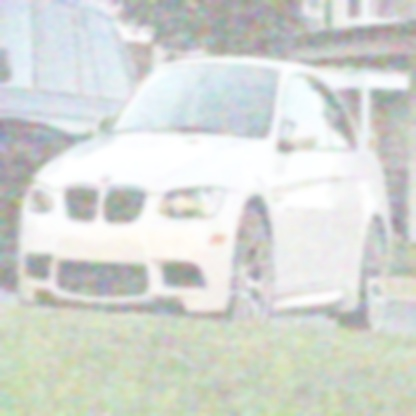Vehicle: (20, 57, 398, 334)
